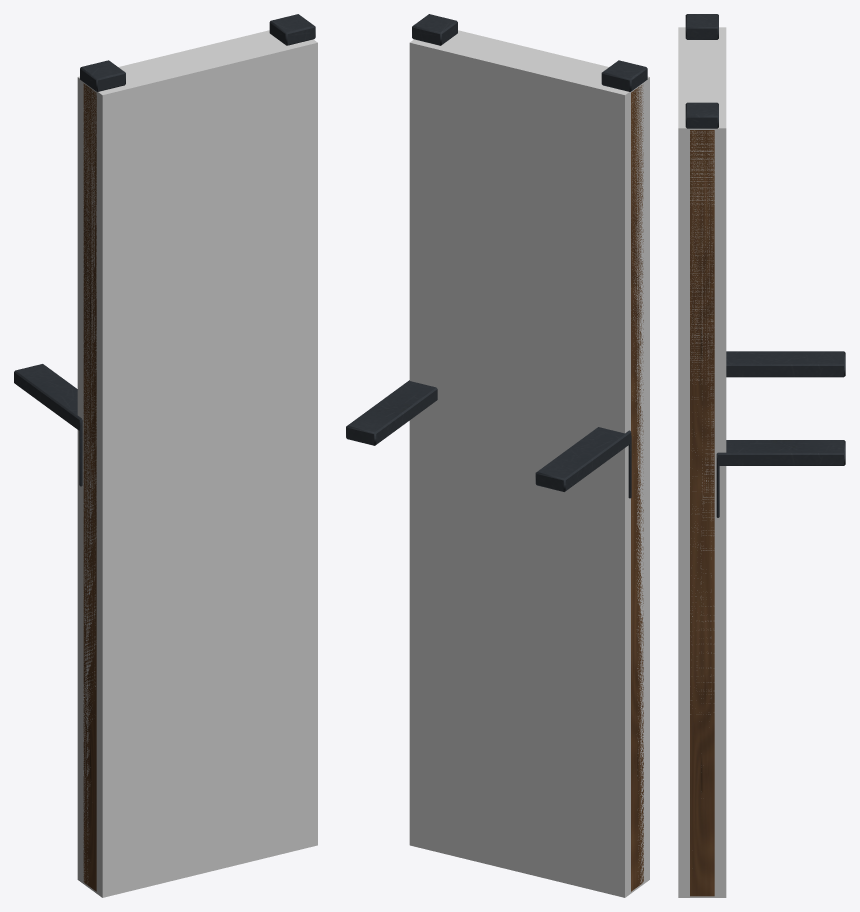
Rendered from settlement_inn_undercroft_ladder_dock.gltf.
The picture shows the model from 3 angles, left to right: view 1: azimuth 30°, elevation 25°; view 2: azimuth 150°, elevation 25°; view 3: azimuth 270°, elevation 25°; orthographic projection. The views are drawn at different scales.
Parts seen in each view (by area): view 1: settlement_inn_undercroft_ladder_dock_col, settlement_inn_undercroft_ladder_dock_LOD0; view 2: settlement_inn_undercroft_ladder_dock_col, settlement_inn_undercroft_ladder_dock_LOD0; view 3: settlement_inn_undercroft_ladder_dock_LOD0, settlement_inn_undercroft_ladder_dock_col.
Part boxes in pixels (x1,y1,x2,y2): settlement_inn_undercroft_ladder_dock_col: [77, 30, 317, 897]; settlement_inn_undercroft_ladder_dock_LOD0: [14, 14, 315, 891]; settlement_inn_undercroft_ladder_dock_col: [409, 30, 649, 897]; settlement_inn_undercroft_ladder_dock_LOD0: [346, 14, 647, 891]; settlement_inn_undercroft_ladder_dock_LOD0: [685, 14, 845, 896]; settlement_inn_undercroft_ladder_dock_col: [678, 27, 726, 897].
Size of what is drawn, in the model's own units: 0.51 by 1.81 by 0.35.
2 materials, 2 textured.
